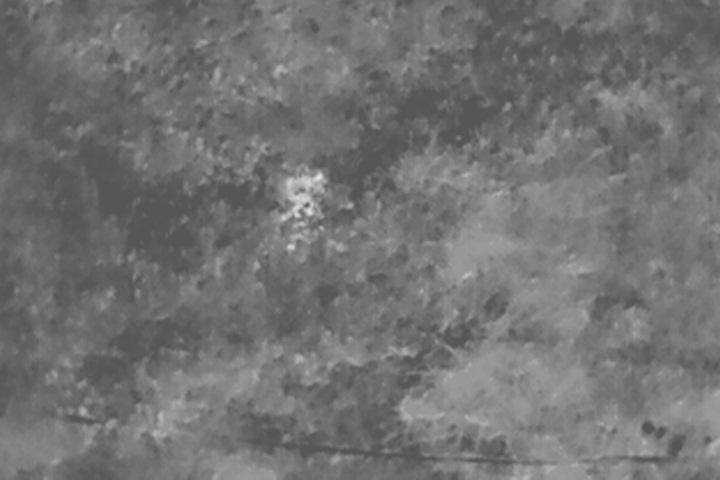landmine: (285, 170, 325, 213)
